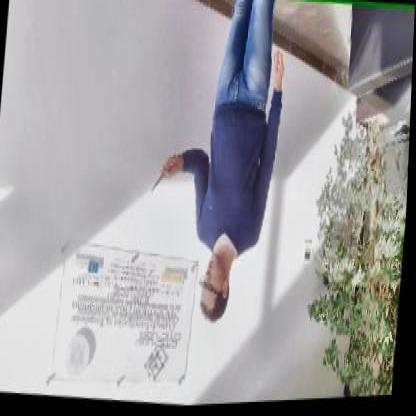knife: (150, 146, 178, 198)
